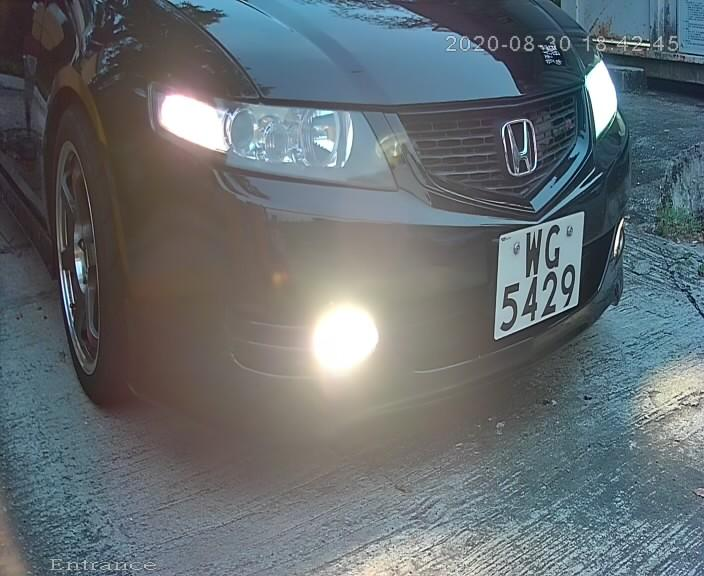License Plate: (488, 209, 585, 348)
